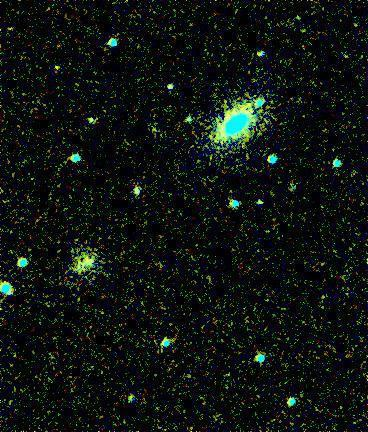star: (48, 52, 78, 82)
